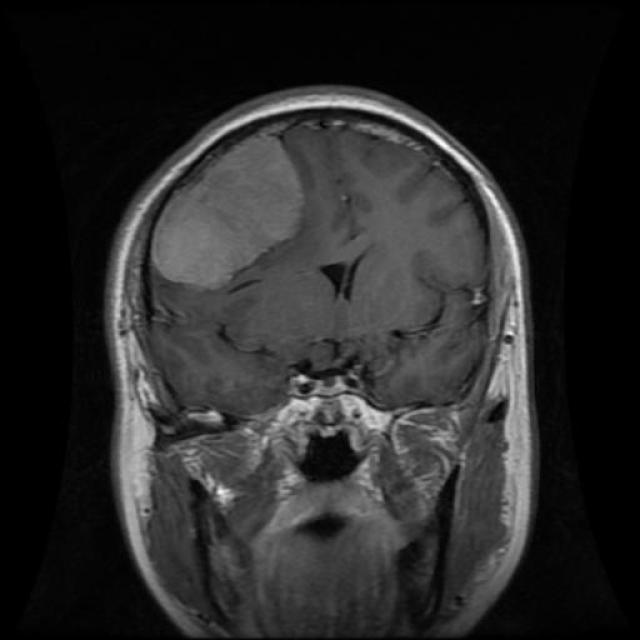Tumor: (151, 136, 314, 286)
